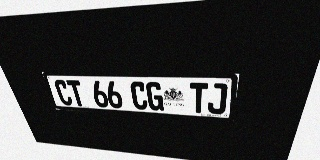6: (90, 80, 110, 108), (104, 81, 124, 109)
C: (129, 81, 148, 110), (53, 80, 74, 106)
G: (146, 82, 164, 111)
J: (207, 83, 228, 114)
T: (190, 83, 208, 113), (66, 80, 86, 106)
